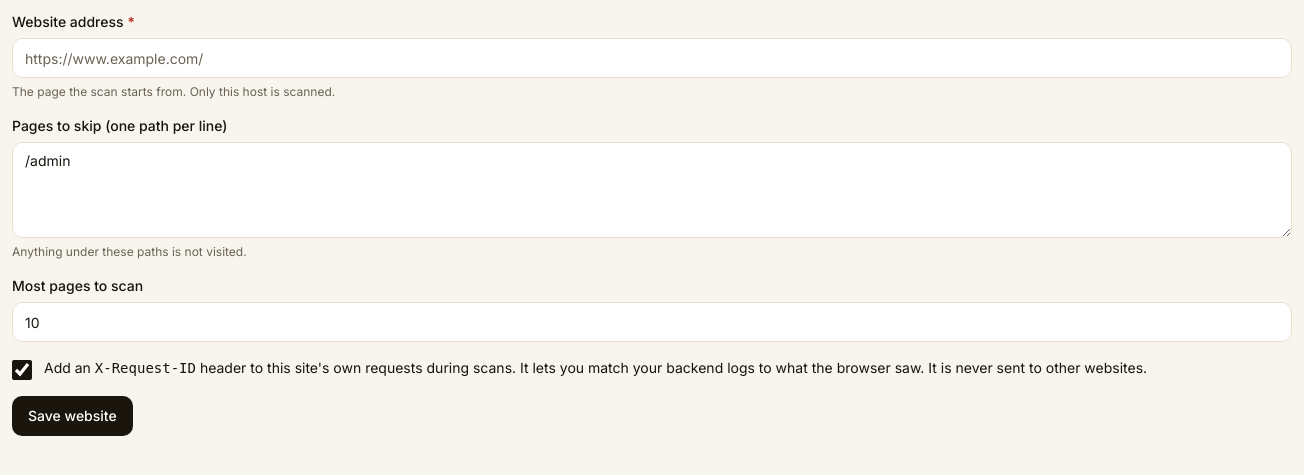
Test: SiteCard › shows a refused address as an error on the address field
Type "http://10.0.0.1/" into the field labelled "Website address*".
click(652, 58); type("http://10.0.0.1/")  # box left=12, top=38, right=1292, bottom=78
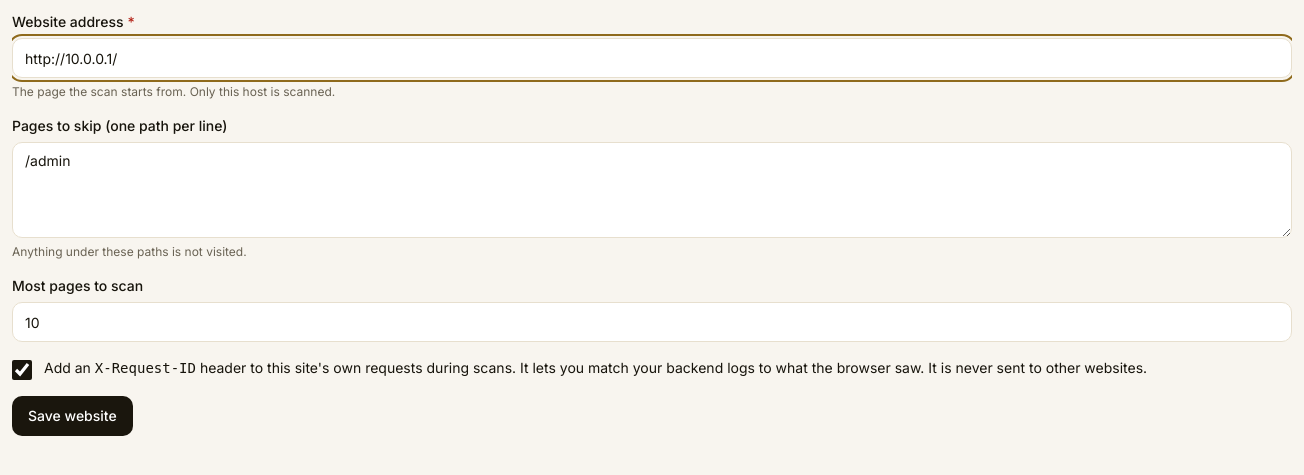
Click the button "Save website".
click(72, 416)  # box left=12, top=396, right=133, bottom=436
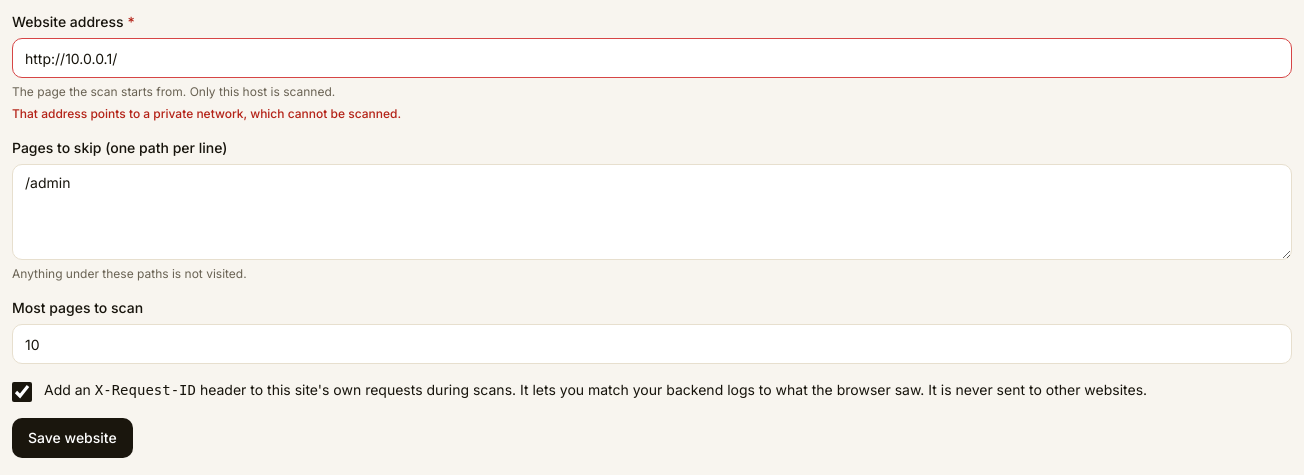
Expected: the text "private network" is shown, left=12, top=106, right=401, bottom=121
